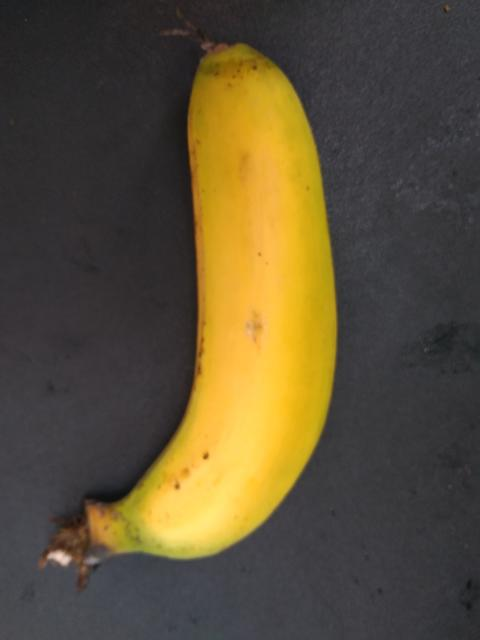freshripe: (131, 36, 366, 592)
